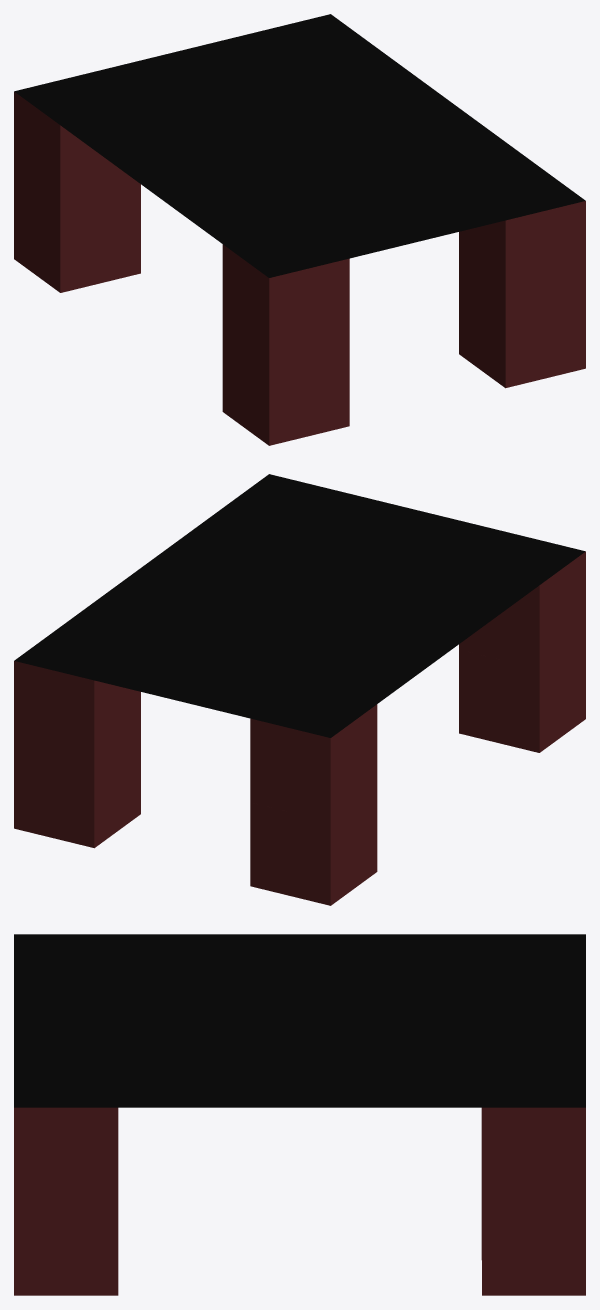
File: gun_rack.glb
3 renders of one model, top to bottom at view 1: azimuth 30°, elevation 25°; view 2: azimuth 150°, elevation 25°; view 3: azimuth 270°, elevation 25°, orthographic. The views are drawn at different scales.
Parts seen in each view (by area): view 1: Cube.004; view 2: Cube.004; view 3: Cube.004.
Part boxes in pixels (box(x1,y1,x2,y2)): Cube.004: box(14, 14, 585, 445); Cube.004: box(14, 474, 585, 905); Cube.004: box(14, 934, 585, 1295).
Bounding box in the file's own units: 1.97 × 0.9958 × 2.75.
